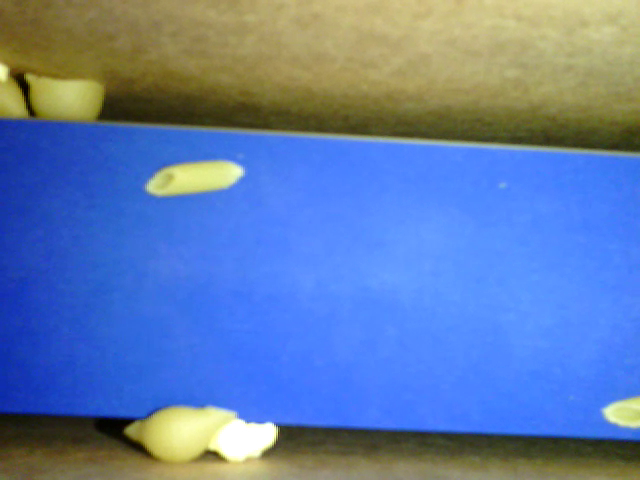penne: (144, 157, 247, 201), (600, 390, 638, 427)
shell: (122, 402, 237, 467), (23, 69, 107, 123)
